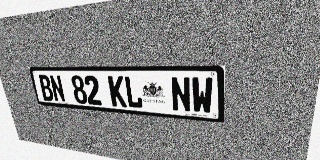2: (83, 75, 102, 105)
8: (70, 75, 88, 104)
B: (38, 75, 55, 101)
K: (108, 76, 127, 107)
L: (124, 76, 143, 109)
N: (170, 77, 191, 113), (49, 75, 66, 102)
W: (191, 77, 213, 114)
